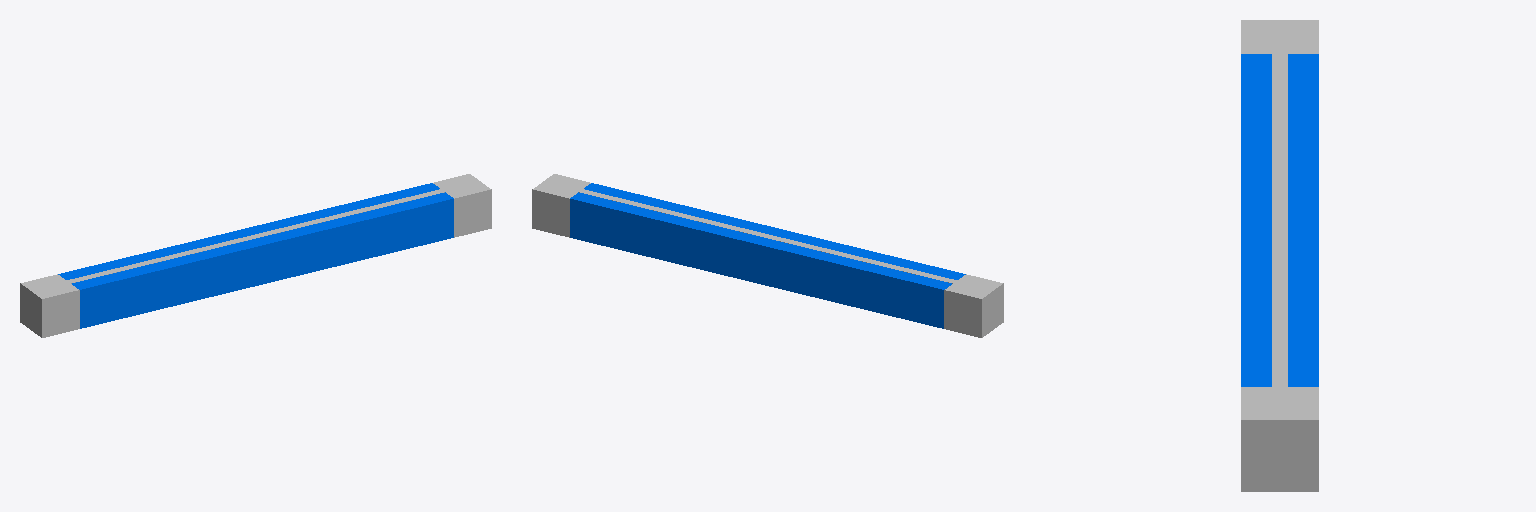
The robot description file, URDF, robot "snap_connector_6":
<?xml version="1.0"?>
<robot name="snap_connector_6">
    <!-- Middle plastic link is listed first as the 'base' reference link -->

        <link name="middle_plastic">
          <visual>
            <origin xyz="0 0 0" rpy="0 0 0" />
            <geometry>
              <box size="0.5000000000000001 0.05 0.05" />
            </geometry>
            <material name="middle_plastic_material">
              <color rgba="0.0 0.5 1.0 1.0"/>
            </material>
          </visual>
          <collision>
            <origin xyz="0 0 0" rpy="0 0 0" />
            <geometry>
              <box size="0.5000000000000001 0.05 0.05" />
            </geometry>
          </collision>
        </link>



        <link name="start_metal">
          <visual>
            <origin xyz="0 0 0" rpy="0 0 0" />
            <geometry>
              <box size="0.05 0.05 0.05" />
            </geometry>
            <material name="start_metal_material">
              <color rgba="0.8 0.8 0.8 1.0"/>
            </material>
          </visual>
          <collision>
            <origin xyz="0 0 0" rpy="0 0 0" />
            <geometry>
              <box size="0.05 0.05 0.05" />
            </geometry>
          </collision>
        </link>


        <link name="end_metal">
          <visual>
            <origin xyz="0 0 0" rpy="0 0 0" />
            <geometry>
              <box size="0.05 0.05 0.05" />
            </geometry>
            <material name="end_metal_material">
              <color rgba="0.8 0.8 0.8 1.0"/>
            </material>
          </visual>
          <collision>
            <origin xyz="0 0 0" rpy="0 0 0" />
            <geometry>
              <box size="0.05 0.05 0.05" />
            </geometry>
          </collision>
        </link>


        <link name="line">
          <visual>
            <origin xyz="0 0 0" rpy="0 0 0" />
            <geometry>
              <box size="0.5000000000000001 0.01 0.0001" />
            </geometry>
            <material name="line_material">
              <color rgba="0.8 0.8 0.8 1.0"/>
            </material>
          </visual>
          <collision>
            <origin xyz="0 0 0" rpy="0 0 0" />
            <geometry>
              <box size="0.5000000000000001 0.01 0.0001" />
            </geometry>
          </collision>
        </link>


    <!-- Fixed joints -->

        <joint name="start_metal_joint" type="fixed">
          <parent link="middle_plastic"/>
          <child link="start_metal"/>
          <origin xyz="-0.2750000000000001 0 0" rpy="0 0 0"/>
        </joint>


        <joint name="end_metal_joint" type="fixed">
          <parent link="middle_plastic"/>
          <child link="end_metal"/>
          <origin xyz="0.2750000000000001 0 0" rpy="0 0 0"/>
        </joint>


        <joint name="line_joint" type="fixed">
          <parent link="middle_plastic"/>
          <child link="line"/>
          <origin xyz="0 0 0.025050000000000003" rpy="0 0 0"/>
        </joint>

</robot>

--- Render facts (derived) ---
3 views of the same robot in one strip: view 1: azimuth 30°, elevation 25°; view 2: azimuth 150°, elevation 25°; view 3: azimuth 270°, elevation 25° (orthographic).
Model snap_connector_6 with 4 links and 3 joints (3 fixed), rooted at middle_plastic, posed every joint at zero.
Links seen in each view (by area): view 1: middle_plastic, start_metal, end_metal, line; view 2: middle_plastic, start_metal, end_metal, line; view 3: middle_plastic, end_metal, line, start_metal.
Link boxes in pixels (left/top/right/bottom): middle_plastic: left=58, top=183, right=453, bottom=328; start_metal: left=20, top=274, right=79, bottom=337; end_metal: left=433, top=174, right=491, bottom=237; line: left=67, top=189, right=444, bottom=283; middle_plastic: left=570, top=183, right=965, bottom=328; start_metal: left=944, top=274, right=1003, bottom=337; end_metal: left=532, top=174, right=590, bottom=237; line: left=579, top=189, right=956, bottom=283; middle_plastic: left=1241, top=54, right=1318, bottom=386; end_metal: left=1241, top=387, right=1318, bottom=491; line: left=1272, top=54, right=1287, bottom=386; start_metal: left=1241, top=20, right=1318, bottom=53.
Bounding box of the posed robot: 0.6 × 0.05 × 0.0501 m (x, y, z).
Geometry: primitives only (box / cylinder / sphere), no mesh files.